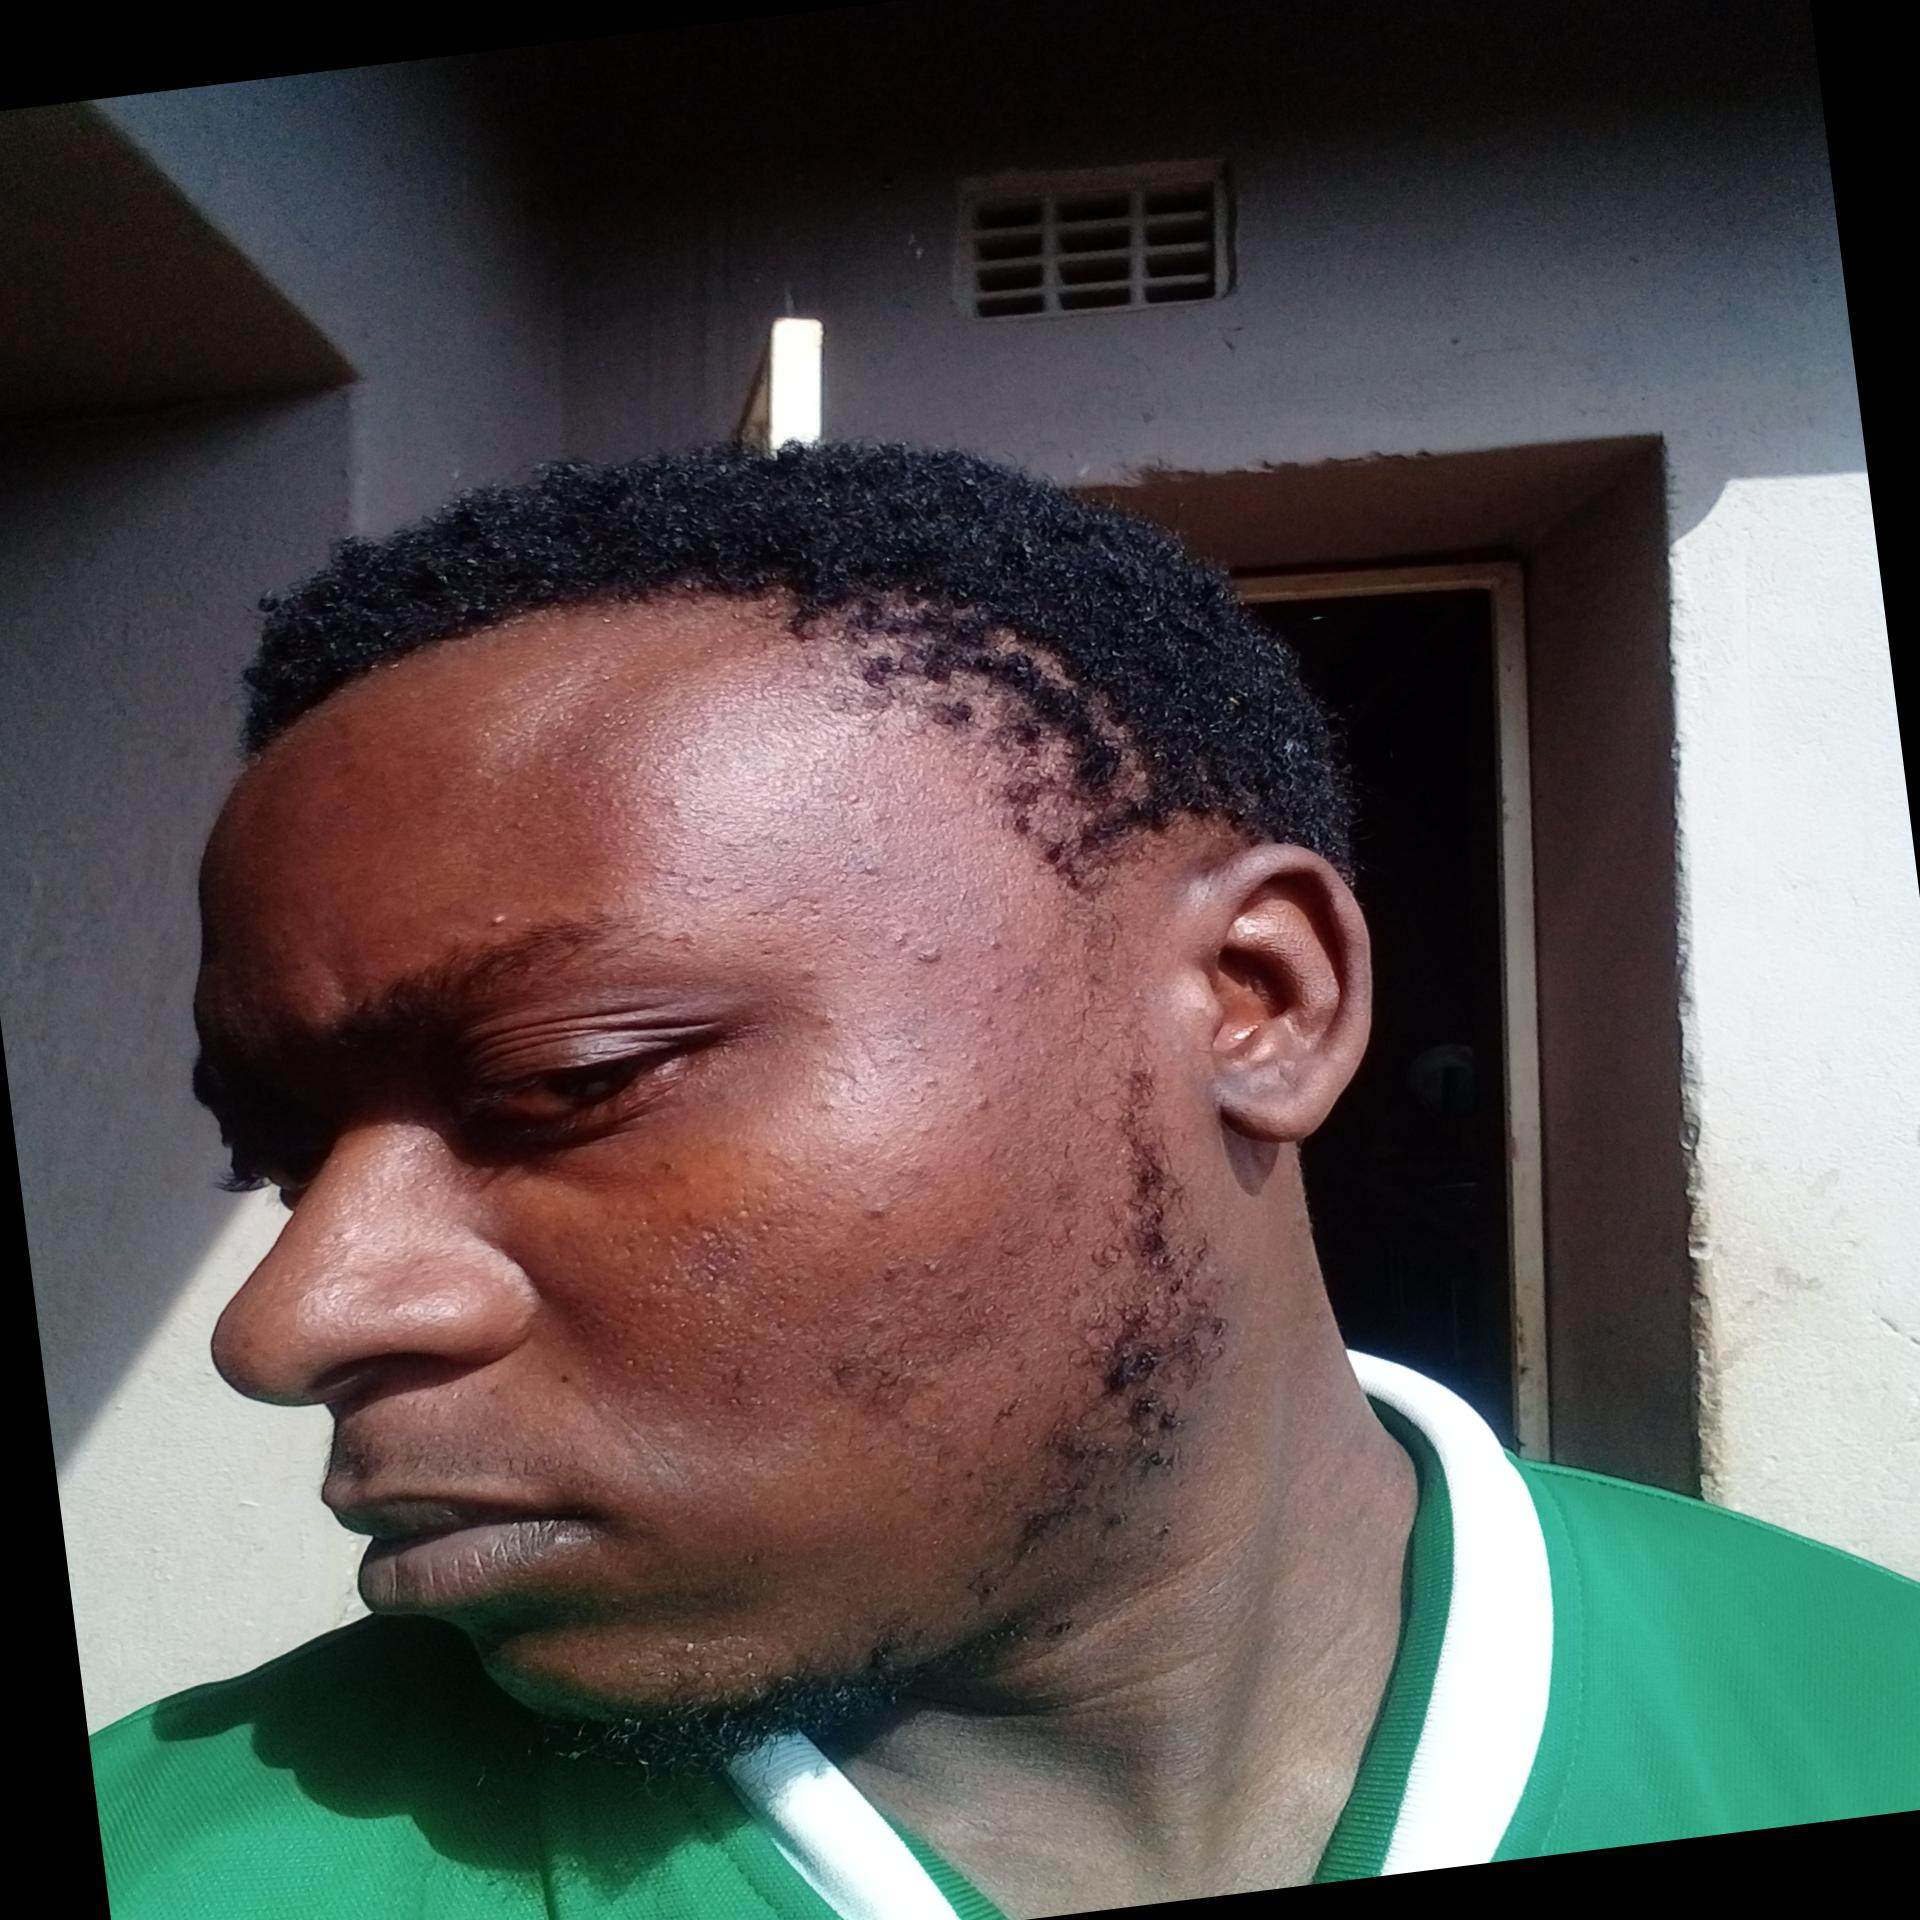Acne: (856, 1194, 898, 1227), (812, 1090, 855, 1122), (955, 1043, 992, 1078), (870, 1254, 907, 1289), (911, 941, 948, 969), (960, 1004, 999, 1030), (964, 1092, 999, 1120), (475, 911, 513, 930), (916, 1071, 951, 1092), (979, 932, 1011, 955), (693, 865, 724, 888), (812, 1006, 840, 1029), (856, 858, 884, 881), (665, 791, 693, 814), (795, 960, 823, 981), (979, 978, 1009, 997), (840, 788, 865, 809), (1030, 981, 1053, 999), (883, 928, 907, 944), (925, 1254, 942, 1273)
Englarged Pores: (607, 1199, 800, 1424)
